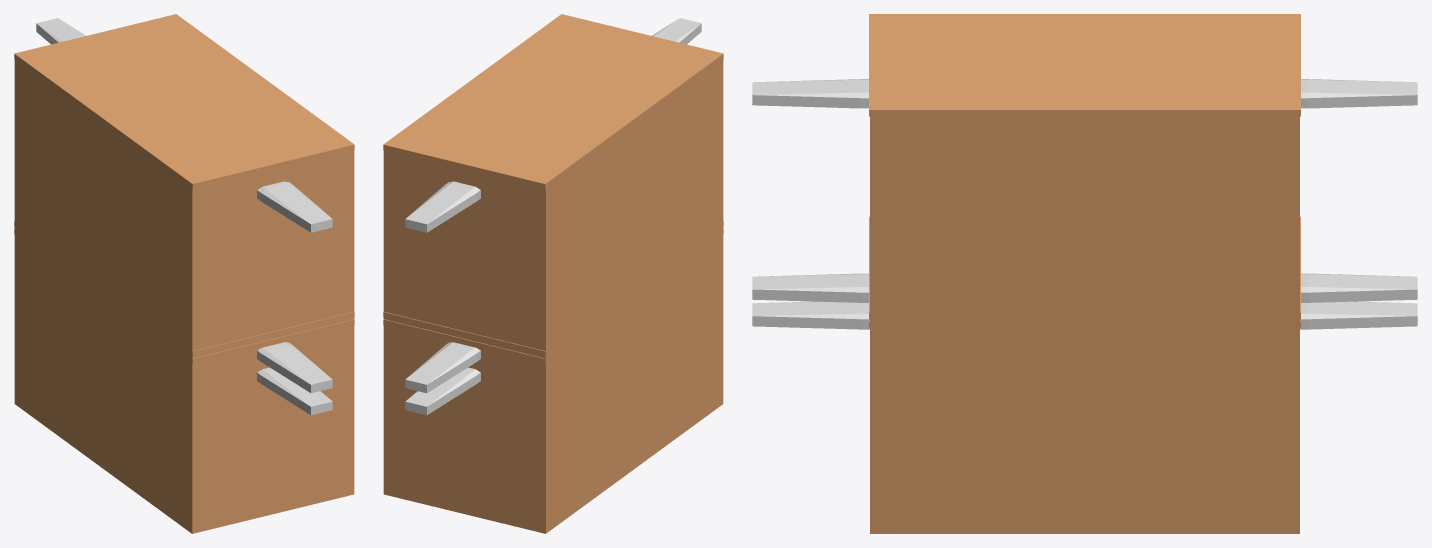
Rendered from BoxVerySmall.fbx.
3 views of the same model, side by side, from view 1: azimuth 30°, elevation 25°; view 2: azimuth 150°, elevation 25°; view 3: azimuth 270°, elevation 25° (orthographic). The views are drawn at different scales.
Parts seen in each view (by area): view 1: Cube.002, Cube.001, Cube.007, Cube.008, Cube.005, Cube.009, Cube, Cube.003, Cube.006; view 2: Cube.002, Cube.001, Cube.007, Cube.008, Cube.005, Cube.009, Cube.003, Cube, Cube.006; view 3: Cube.002, Cube.001, Cube.007, Cube.008, Cube.009, Cube.005, Cube, Cube.003.
Boxes of the visible parts, left/top/right/bottom form: Cube.002: left=14, top=60, right=354, bottom=358; Cube.001: left=14, top=235, right=354, bottom=533; Cube.007: left=14, top=14, right=354, bottom=189; Cube.008: left=14, top=229, right=354, bottom=448; Cube.005: left=36, top=18, right=332, bottom=232; Cube.009: left=257, top=342, right=332, bottom=393; Cube: left=257, top=367, right=332, bottom=415; Cube.003: left=14, top=228, right=354, bottom=364; Cube.006: left=14, top=221, right=354, bottom=356; Cube.002: left=383, top=60, right=723, bottom=358; Cube.001: left=383, top=234, right=723, bottom=533; Cube.007: left=383, top=14, right=723, bottom=189; Cube.008: left=383, top=226, right=723, bottom=448; Cube.005: left=405, top=18, right=701, bottom=232; Cube.009: left=405, top=342, right=480, bottom=393; Cube.003: left=383, top=228, right=723, bottom=364; Cube: left=405, top=367, right=480, bottom=415; Cube.006: left=383, top=221, right=723, bottom=356; Cube.002: left=870, top=116, right=1299, bottom=321; Cube.001: left=870, top=328, right=1299, bottom=533; Cube.007: left=869, top=14, right=1300, bottom=116; Cube.008: left=870, top=318, right=1299, bottom=431; Cube.009: left=752, top=273, right=1417, bottom=302; Cube.005: left=752, top=79, right=1417, bottom=108; Cube: left=752, top=301, right=1417, bottom=329; Cube.003: left=869, top=319, right=1300, bottom=328.
Size of the model in its own units: 515 by 1062 by 1510.
